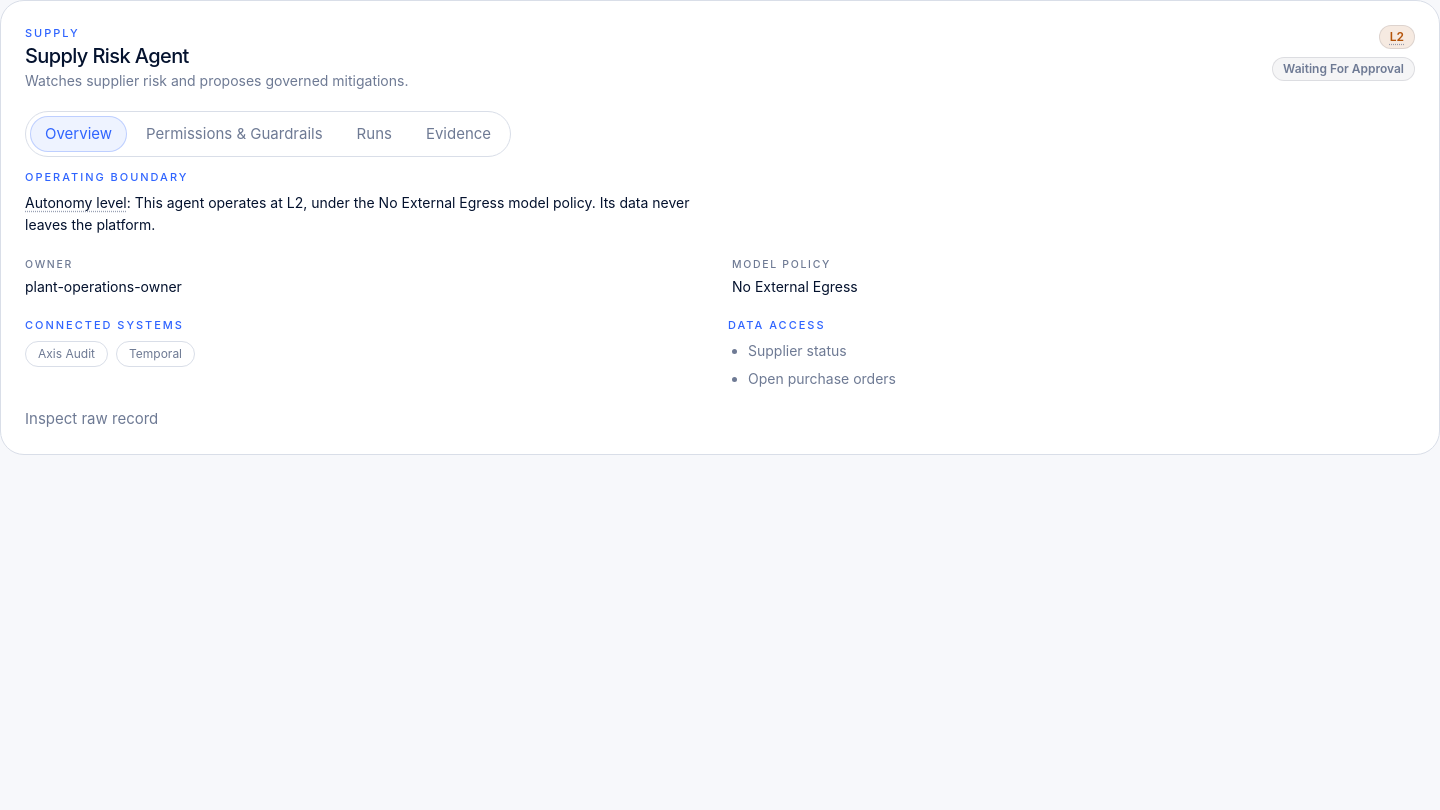
Test: AgentDetail tabs › links evidence records to workflows, approvals and audit on the Evidence tab
This screenshot has width=1440, height=810.
Click the tab "Evidence" at (458, 134), box [411,116,506,152]
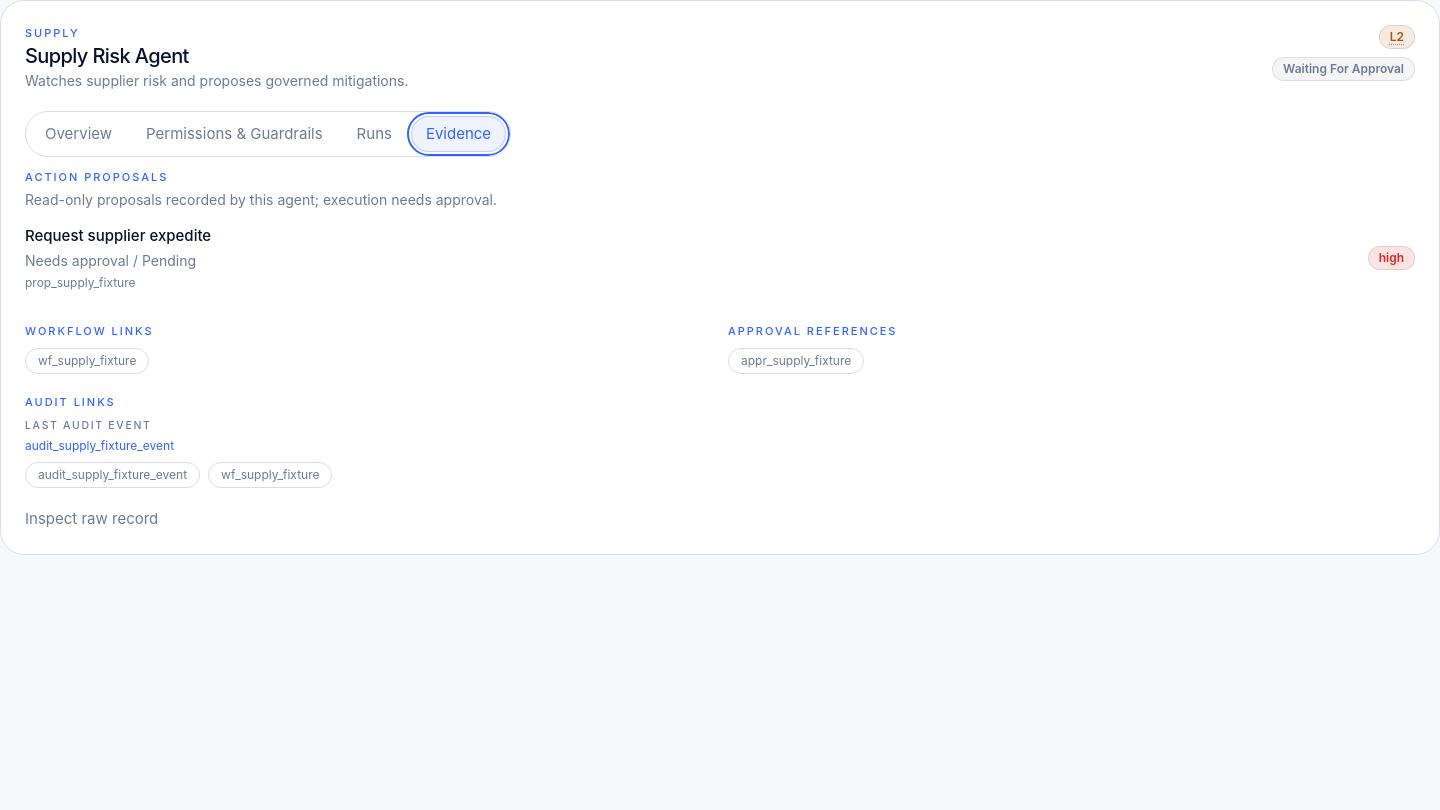
Now the text "Request supplier expedite" is shown, box [25,226,211,245]
